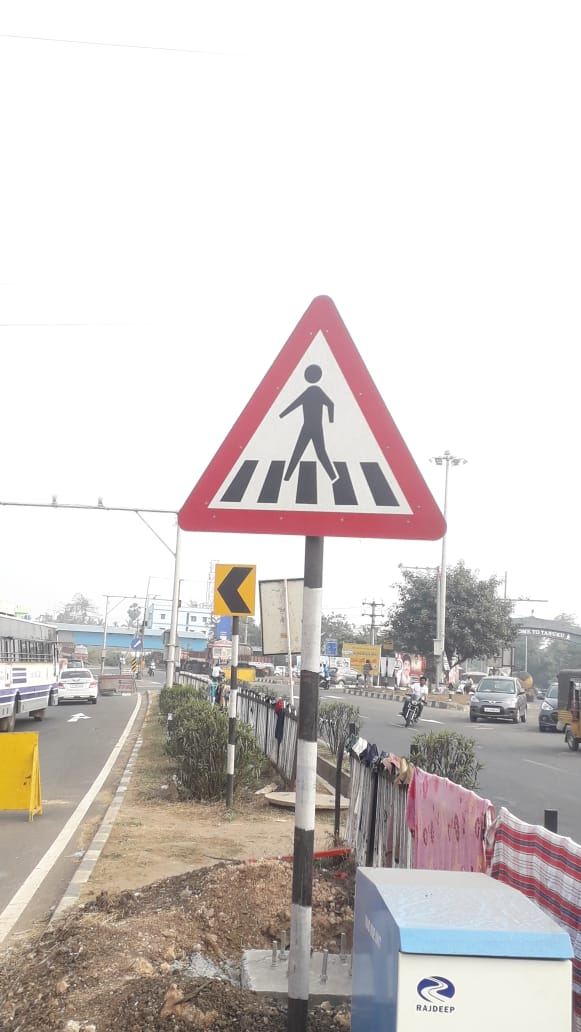pedestrian crossing: (176, 264, 458, 554)
